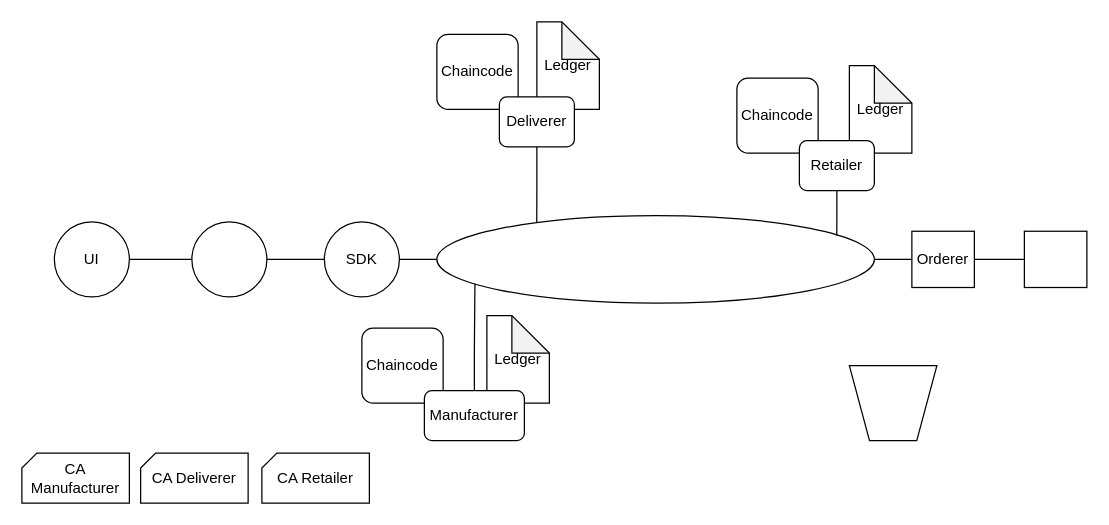
Some shapes in this 1109 by 525 pixel diagram are drawn without their labels. Here are the shapes that lost their labels. From the top down, the box of each, then its label:
(191, 221, 267, 297): API
(436, 214, 874, 303): Channel
(1023, 230, 1087, 288): Network Config
(848, 364, 937, 441): Channel Config
